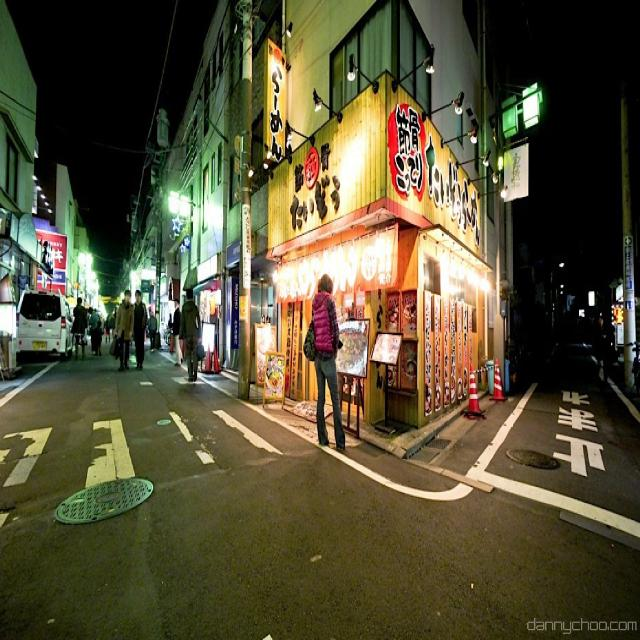body: (310, 272, 347, 455), (108, 286, 135, 372), (179, 285, 202, 383), (132, 286, 148, 369), (70, 295, 88, 361), (171, 296, 184, 367), (86, 306, 100, 356), (148, 308, 158, 352), (94, 318, 102, 357), (112, 298, 119, 332), (104, 313, 110, 344), (167, 312, 173, 330)
